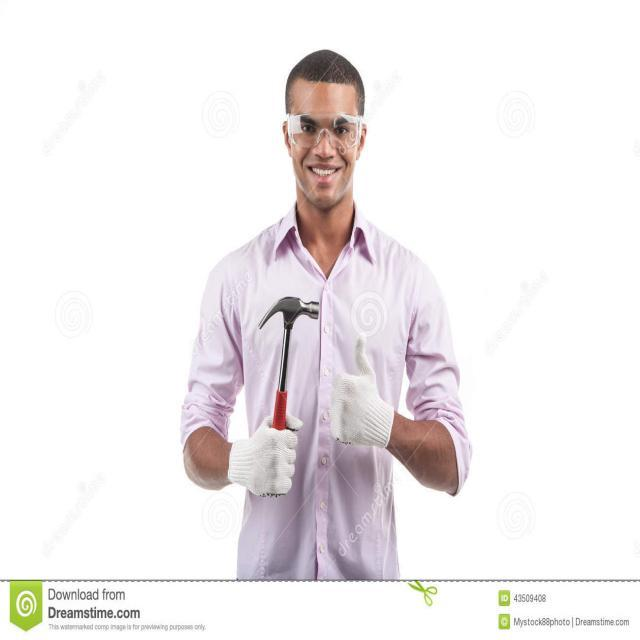hammer: (251, 286, 327, 520)
